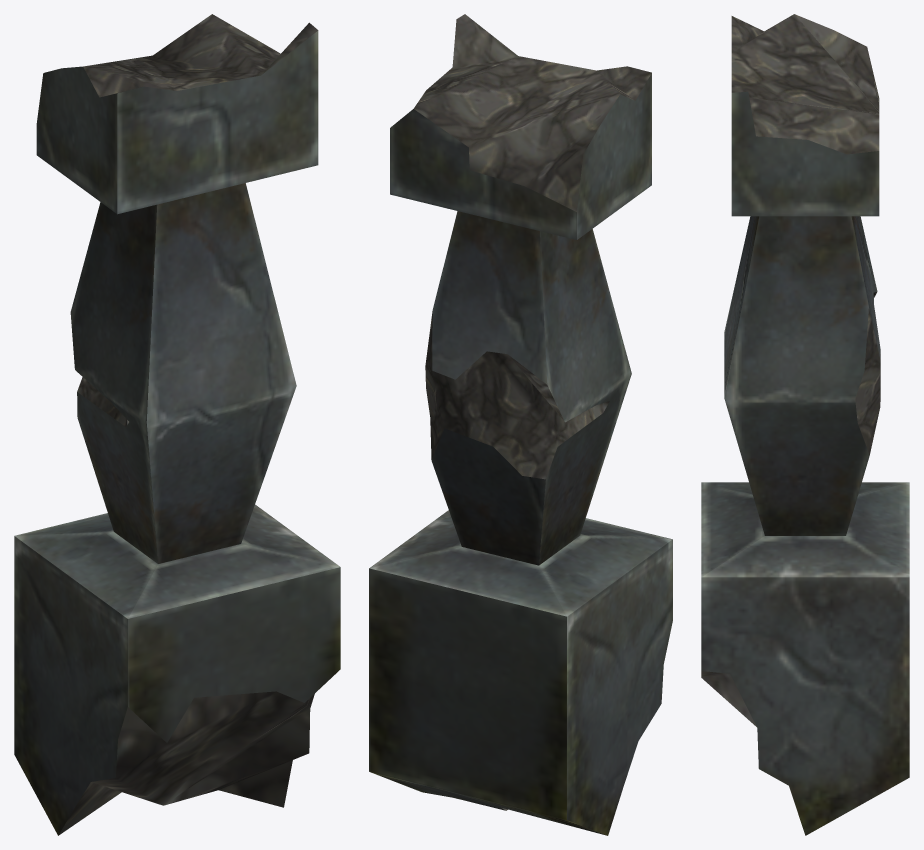
The model's file is F_fushou004.fbx.
3 views of the same model, side by side, from view 1: azimuth 30°, elevation 25°; view 2: azimuth 150°, elevation 25°; view 3: azimuth 270°, elevation 25° (orthographic). The views are drawn at different scales.
Visible parts, largest first — view 1: F_fushou004; view 2: F_fushou004; view 3: F_fushou004.
Boxes of the visible parts, x1,y1,x2,y2 form: F_fushou004: [14, 14, 340, 835]; F_fushou004: [369, 14, 672, 835]; F_fushou004: [701, 14, 909, 835].
Size of the model in its own units: 37.26 by 135 by 34.46.
